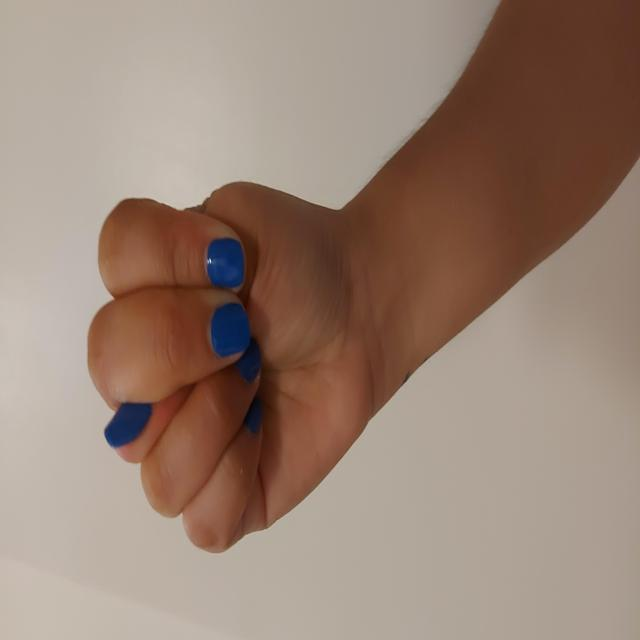N: (84, 86, 463, 375)
